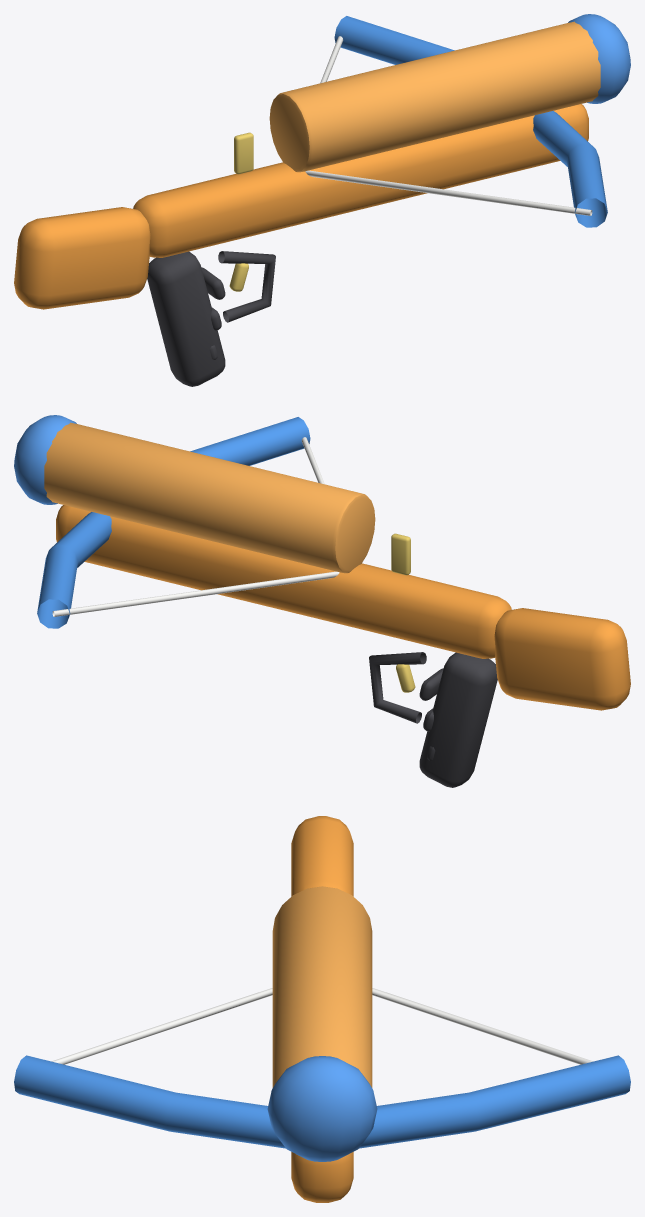
The model's file is crossbow.glb.
The picture shows the model from 3 angles, top to bottom: view 1: azimuth 30°, elevation 25°; view 2: azimuth 150°, elevation 25°; view 3: azimuth 270°, elevation 25°; orthographic projection. The views are drawn at different scales.
Parts seen in each view (by area): view 1: megadart, stock, butt, handle, limb1, limb-1, megatip, string, guard, sight; view 2: megadart, stock, butt, handle, limb-1, limb1, megatip, string, guard, sight; view 3: megadart, limb1, limb-1, megatip, butt, string, stock.
Part boxes in pixels (x1,y1,x2,y2): megadart: (269, 21, 600, 172); stock: (133, 104, 588, 257); butt: (14, 207, 150, 309); handle: (147, 251, 225, 386); limb1: (533, 111, 607, 227); limb-1: (334, 16, 454, 64); megatip: (568, 14, 630, 103); string: (305, 36, 592, 215); guard: (218, 251, 275, 322); sight: (234, 132, 253, 174); megadart: (44, 422, 375, 573); stock: (56, 505, 511, 658); butt: (494, 608, 630, 710); handle: (419, 652, 497, 787); limb-1: (37, 512, 111, 628); limb1: (190, 417, 310, 465); megatip: (14, 415, 76, 504); string: (52, 437, 339, 616); guard: (369, 652, 426, 723); sight: (391, 533, 410, 575); megadart: (272, 886, 372, 1087); limb1: (14, 1055, 285, 1148); limb-1: (359, 1055, 630, 1148); megatip: (267, 1056, 377, 1161); butt: (291, 816, 353, 896); string: (51, 988, 593, 1064); stock: (291, 1152, 353, 1202).
Bounding box in the file's own units: 0.6771 × 0.2845 × 0.4943.
